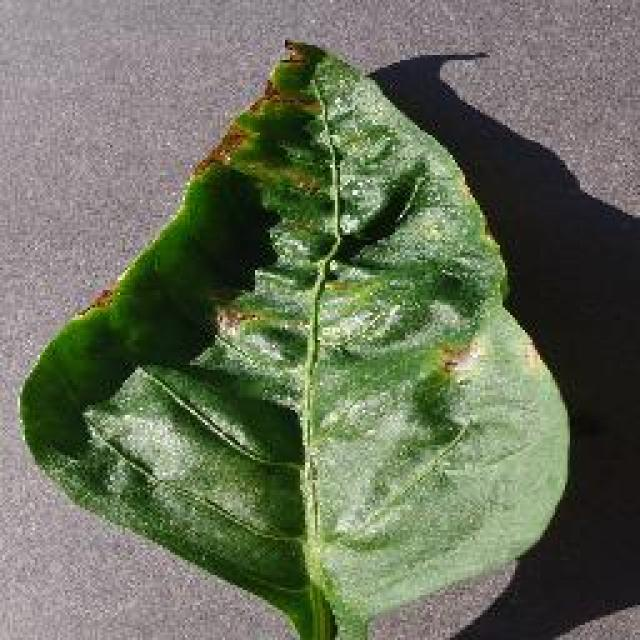Chilli_Bacterial_Spot: (15, 35, 575, 637), (208, 298, 258, 342), (430, 335, 478, 380), (275, 35, 307, 67), (435, 348, 463, 378)
